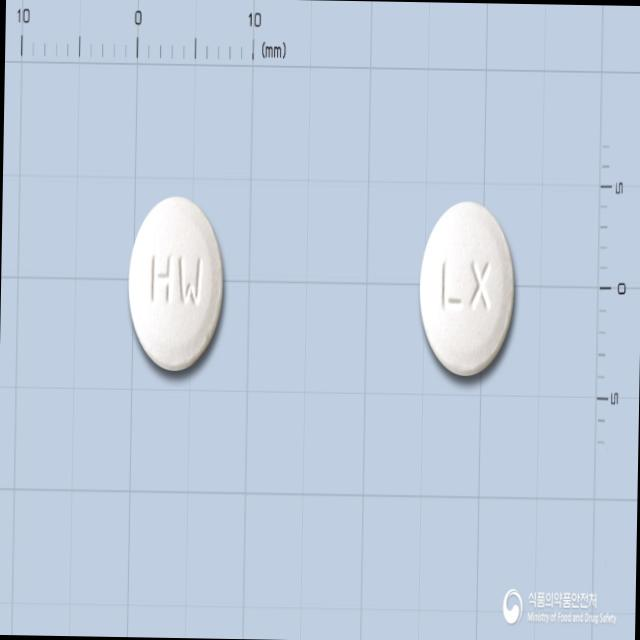Max-xacin: (418, 198, 516, 378), (126, 195, 225, 372)
